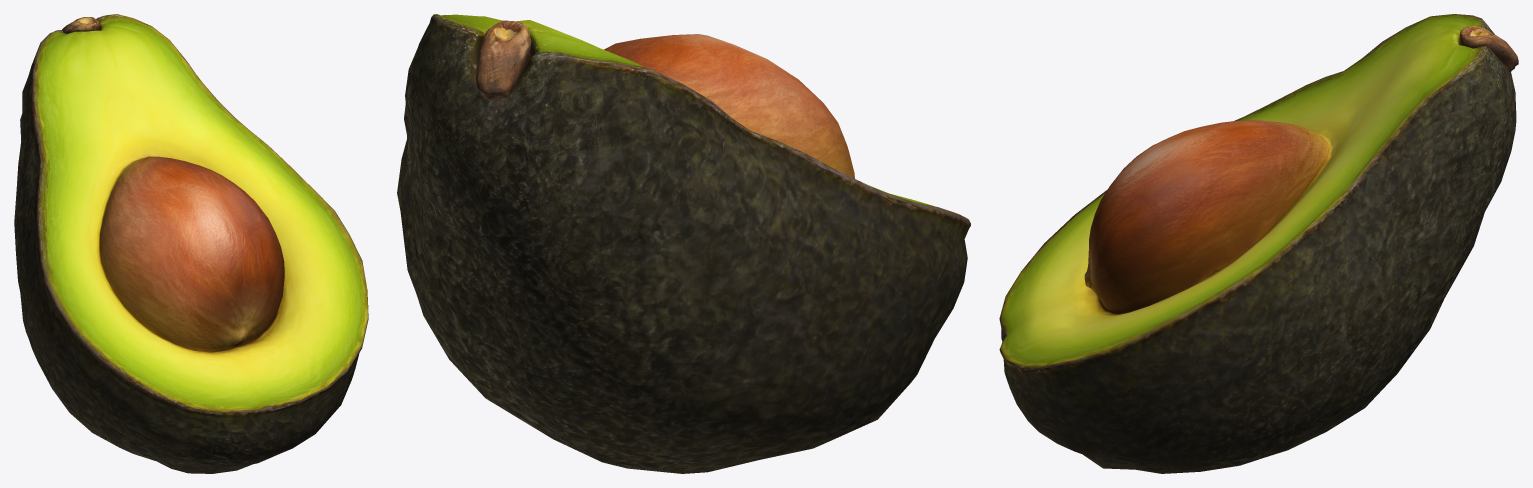
The model's file is food_avocado.glb.
3 renders of one model, left to right at view 1: azimuth 30°, elevation 25°; view 2: azimuth 150°, elevation 25°; view 3: azimuth 270°, elevation 25°, orthographic. The views are drawn at different scales.
Visible parts, largest first — view 1: tripo_node_63ca0717-b266-4deb-9a3e-200a0d4a1f9a; view 2: tripo_node_63ca0717-b266-4deb-9a3e-200a0d4a1f9a; view 3: tripo_node_63ca0717-b266-4deb-9a3e-200a0d4a1f9a.
Boxes of the visible parts, x1,y1,x2,y2 form: tripo_node_63ca0717-b266-4deb-9a3e-200a0d4a1f9a: [14, 14, 368, 473]; tripo_node_63ca0717-b266-4deb-9a3e-200a0d4a1f9a: [397, 14, 970, 473]; tripo_node_63ca0717-b266-4deb-9a3e-200a0d4a1f9a: [999, 14, 1518, 473].
Bounding box in the file's own units: 0.135 × 0.15 × 0.1663.
1 material, 1 textured.
